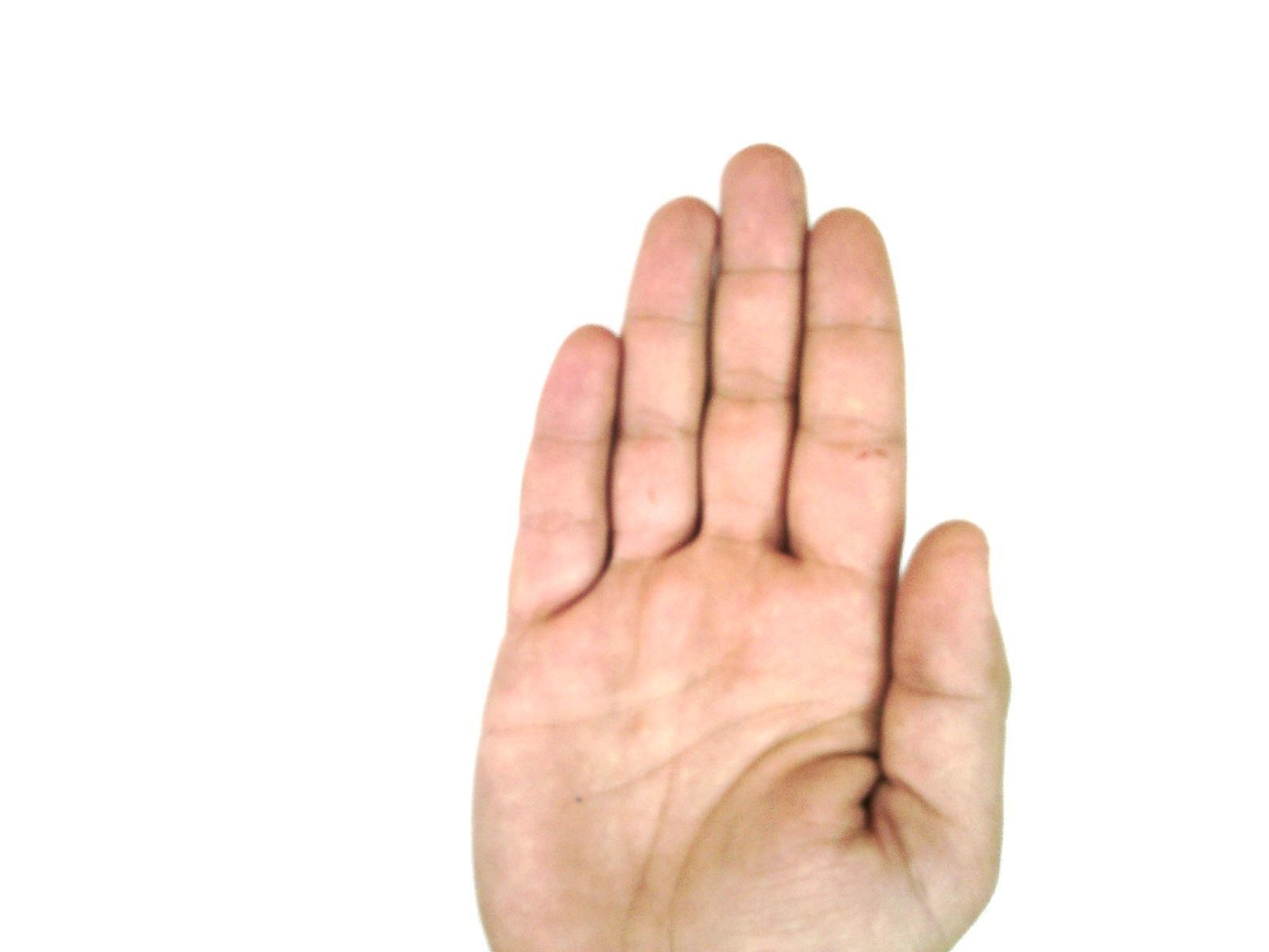open_palm: (468, 143, 1014, 951)
